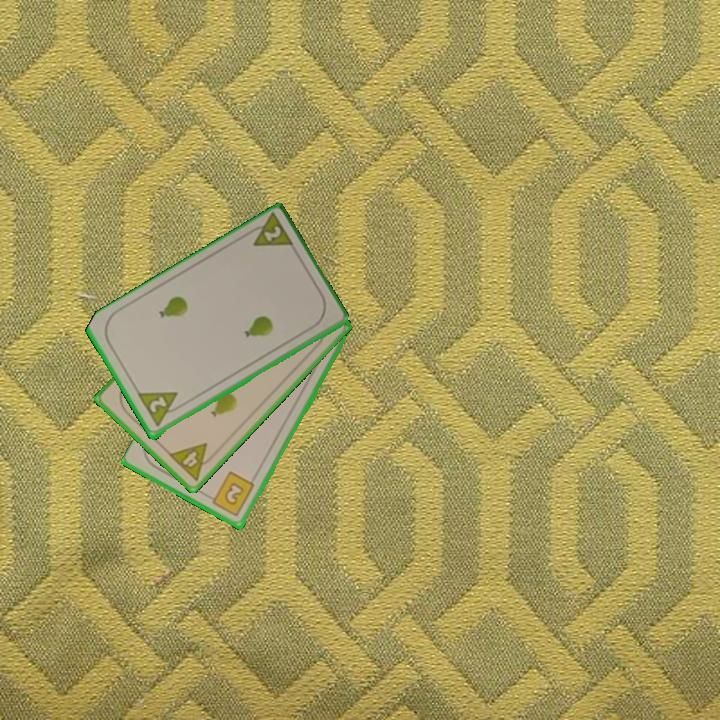2b: (204, 468, 258, 520)
2p: (242, 211, 297, 251), (146, 393, 170, 416)
4p: (165, 439, 220, 484)
